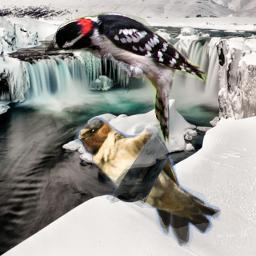Swallow: (74, 117, 221, 247)
Woodpecker: (45, 11, 211, 146)
